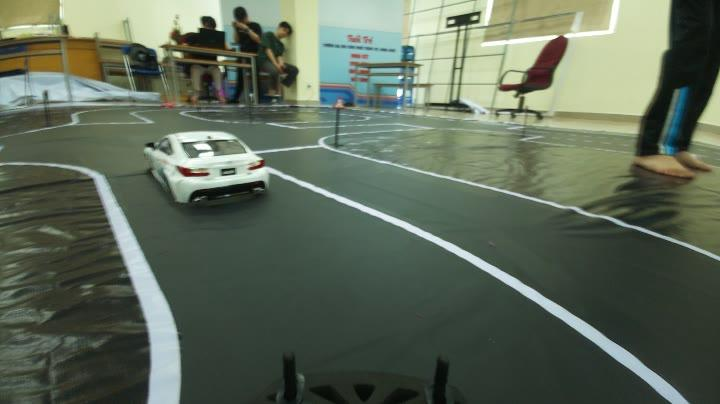car: (139, 126, 279, 209)
